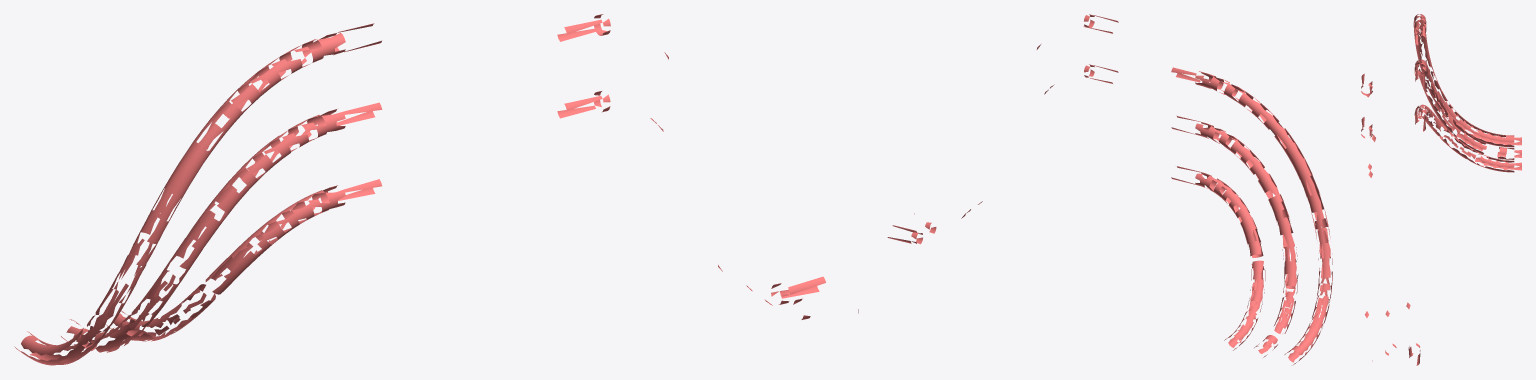
Rendered from ver_Anschlussplatte_Rep.dae.
The picture shows the model from 3 angles, left to right: view 1: azimuth 30°, elevation 25°; view 2: azimuth 150°, elevation 25°; view 3: azimuth 270°, elevation 25°; orthographic projection. The views are drawn at different scales.
Visible parts, largest first — view 1: ver_Anschlussplatte; view 2: ver_Anschlussplatte; view 3: ver_Anschlussplatte.
Part boxes in pixels (bbox=[...]): ver_Anschlussplatte: bbox=[14, 14, 858, 365]; ver_Anschlussplatte: bbox=[887, 14, 1332, 365]; ver_Anschlussplatte: bbox=[1361, 14, 1521, 365].
Size of the model in its own units: 780 by 270 by 390.
